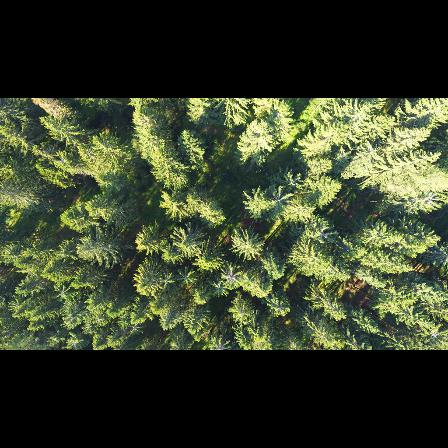Sick: (263, 182, 295, 217), (306, 217, 340, 249), (219, 262, 245, 290), (122, 316, 149, 338), (173, 265, 196, 287), (51, 284, 73, 302)
